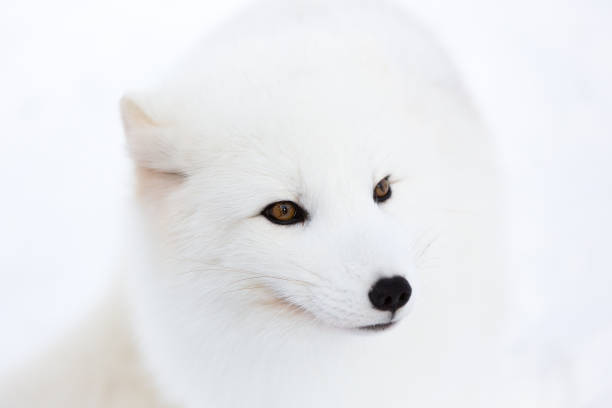arcticfox: (228, 151, 421, 346)
